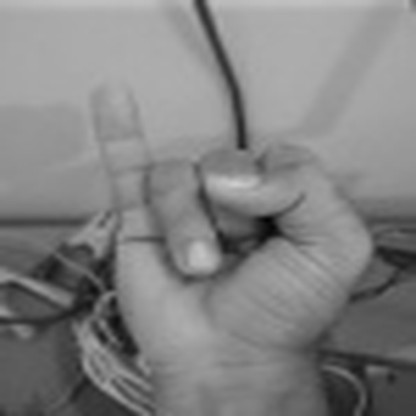i: (90, 80, 389, 374)
